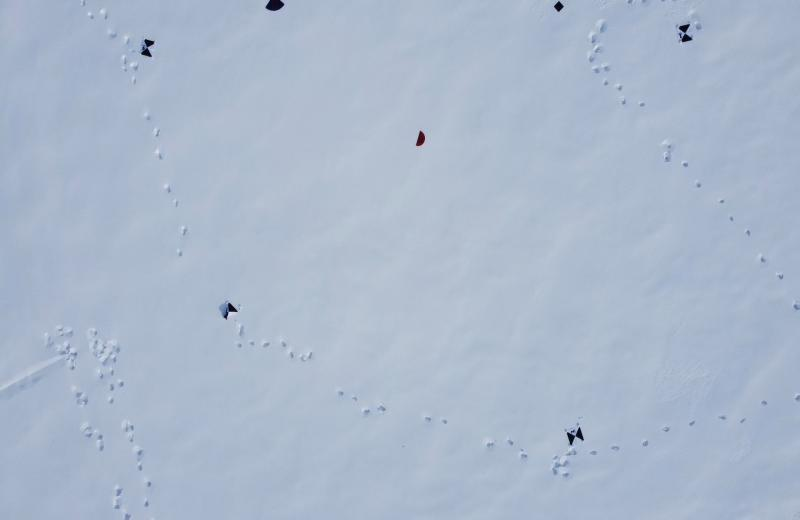Quarter Circle: (264, 0, 286, 13)
Semi Circle: (415, 130, 426, 147)
Square: (553, 1, 565, 13)
